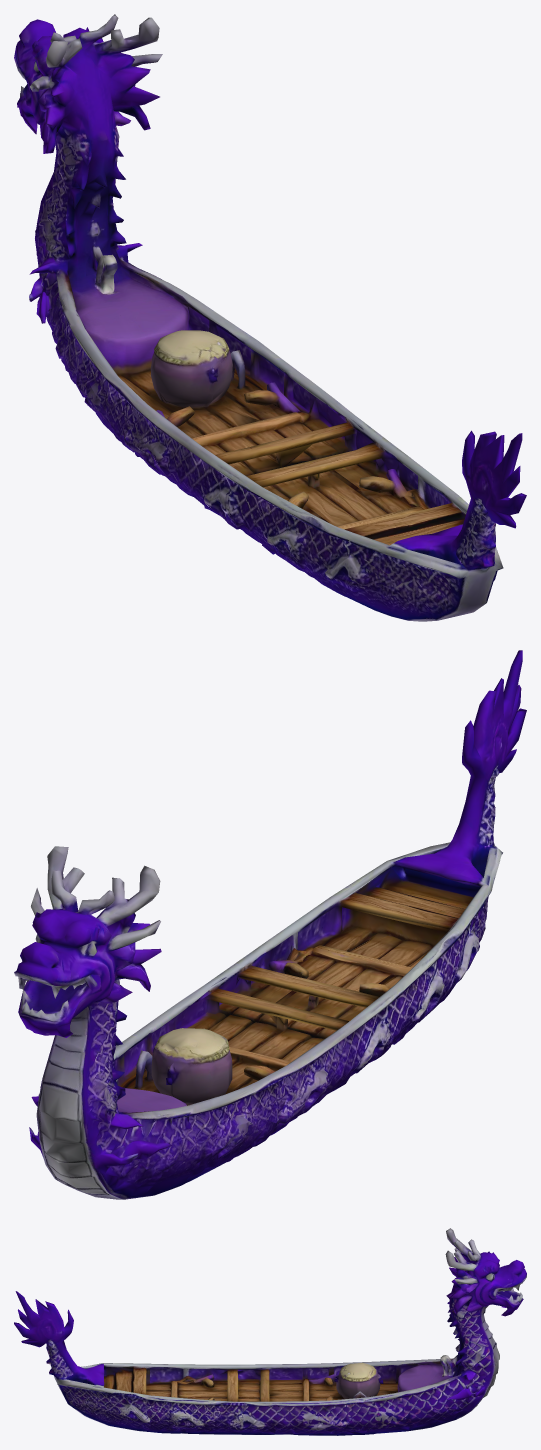
File: opp-purple.glb
3 views of the same model, one above another, from view 1: azimuth 30°, elevation 25°; view 2: azimuth 150°, elevation 25°; view 3: azimuth 270°, elevation 25° (orthographic). The views are drawn at different scales.
Parts seen in each view (by area): view 1: tripo_node_c41d3d92-5f6d-4ca4-b886-5fa2f521ad2f; view 2: tripo_node_c41d3d92-5f6d-4ca4-b886-5fa2f521ad2f; view 3: tripo_node_c41d3d92-5f6d-4ca4-b886-5fa2f521ad2f.
Part boxes in pixels (<box>): tripo_node_c41d3d92-5f6d-4ca4-b886-5fa2f521ad2f: <box>14,14,526,621</box>; tripo_node_c41d3d92-5f6d-4ca4-b886-5fa2f521ad2f: <box>14,650,526,1199</box>; tripo_node_c41d3d92-5f6d-4ca4-b886-5fa2f521ad2f: <box>14,1228,526,1435</box>.
Size of the model in its own units: 0.1931 by 0.3855 by 0.9757.
Materials: 1 (1 with a texture image).
